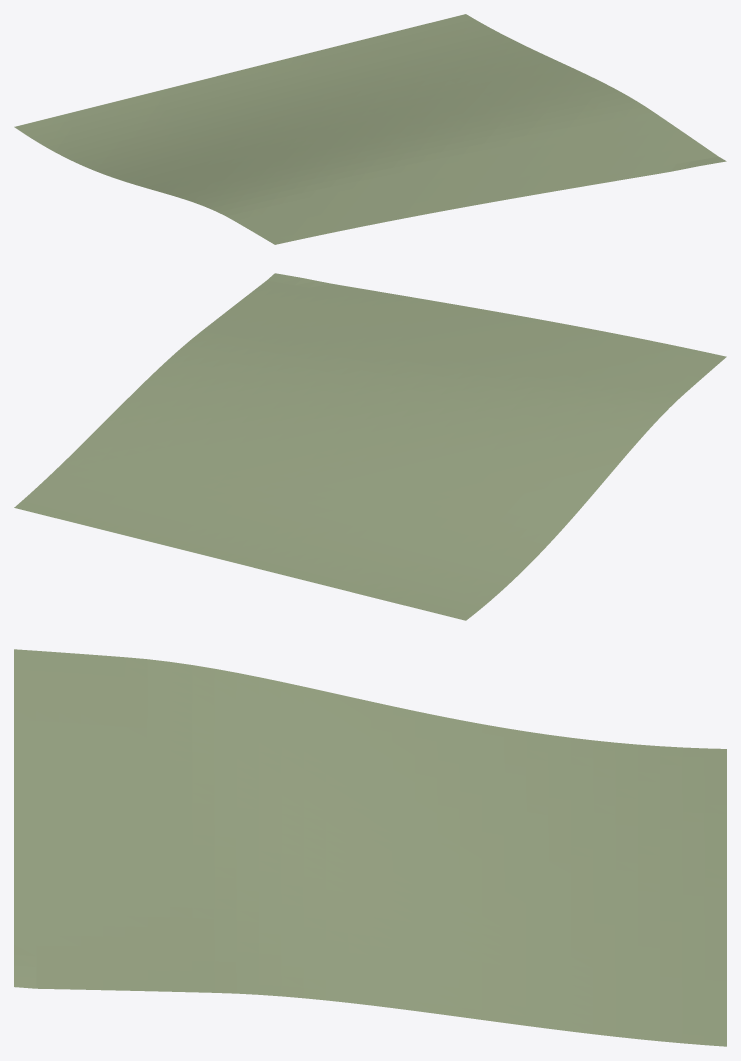
The model's file is valley-7-8.glb.
3 renders of one model, top to bottom at view 1: azimuth 30°, elevation 25°; view 2: azimuth 150°, elevation 25°; view 3: azimuth 270°, elevation 25°, orthographic. The views are drawn at different scales.
Visible parts, largest first — view 1: valley-7-8; view 2: valley-7-8; view 3: valley-7-8.
Part boxes in pixels (x1,y1,x2,y2): valley-7-8: [14, 14, 726, 244]; valley-7-8: [14, 273, 726, 620]; valley-7-8: [14, 649, 726, 1046].
Size of the model in its own units: 256 by 39.51 by 256.
